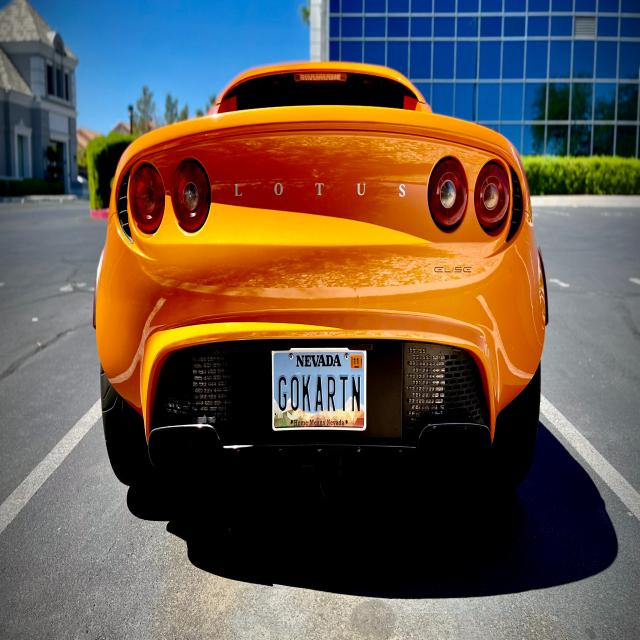Plat: (270, 346, 369, 434)
